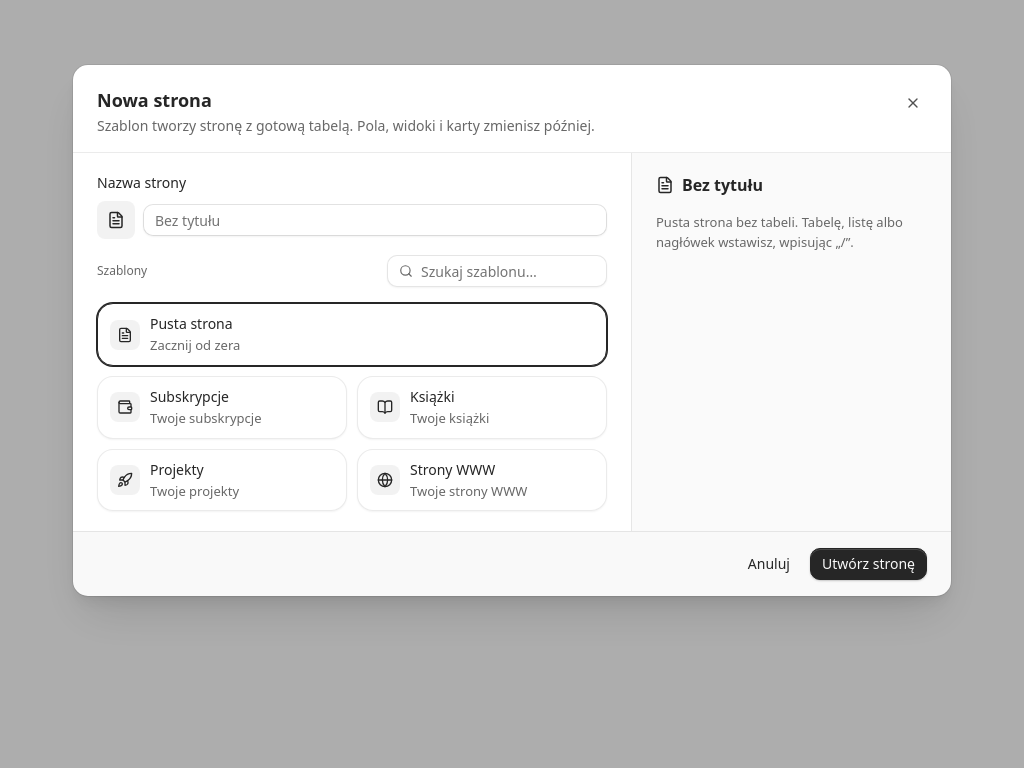
Test case: NewPageView › nazwa wpisana przez użytkownika trafia do nagłówka panelu; zmiana szablonu przywraca jego nazwę
Click the radio button labelled "Projekty Twoje projekty". click: (222,480)
box: [97, 448, 347, 511]
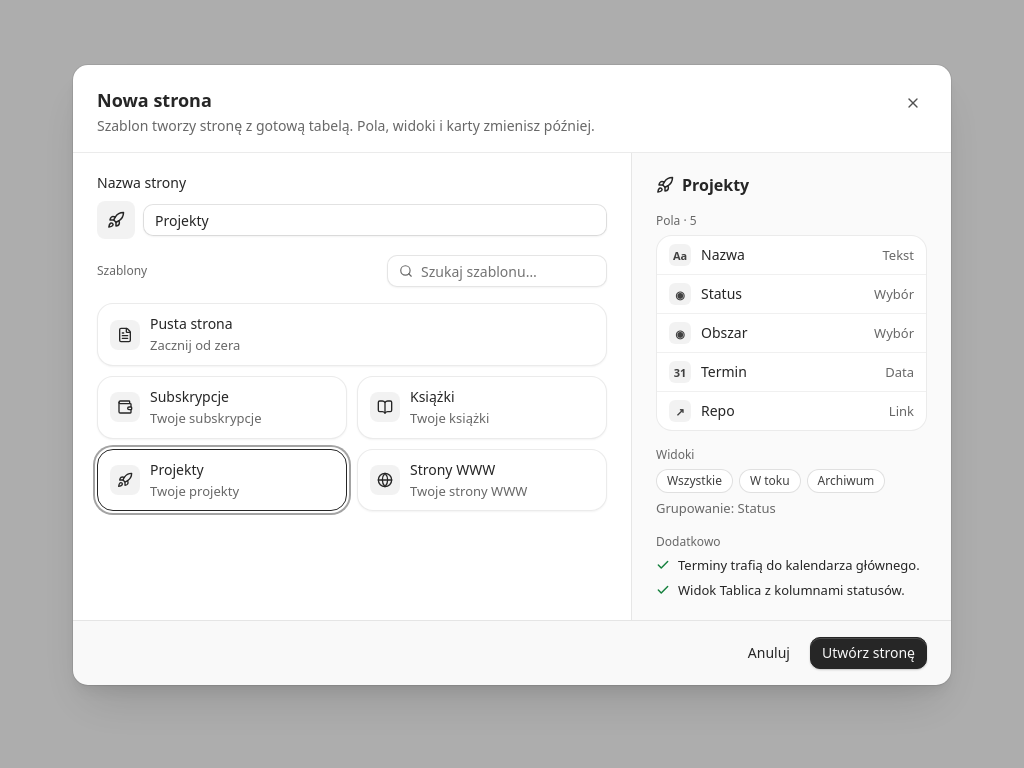
Replace the text in the field labelled "Nazwa strony" with "Studia". click: (375,220)
box: [143, 204, 607, 236]
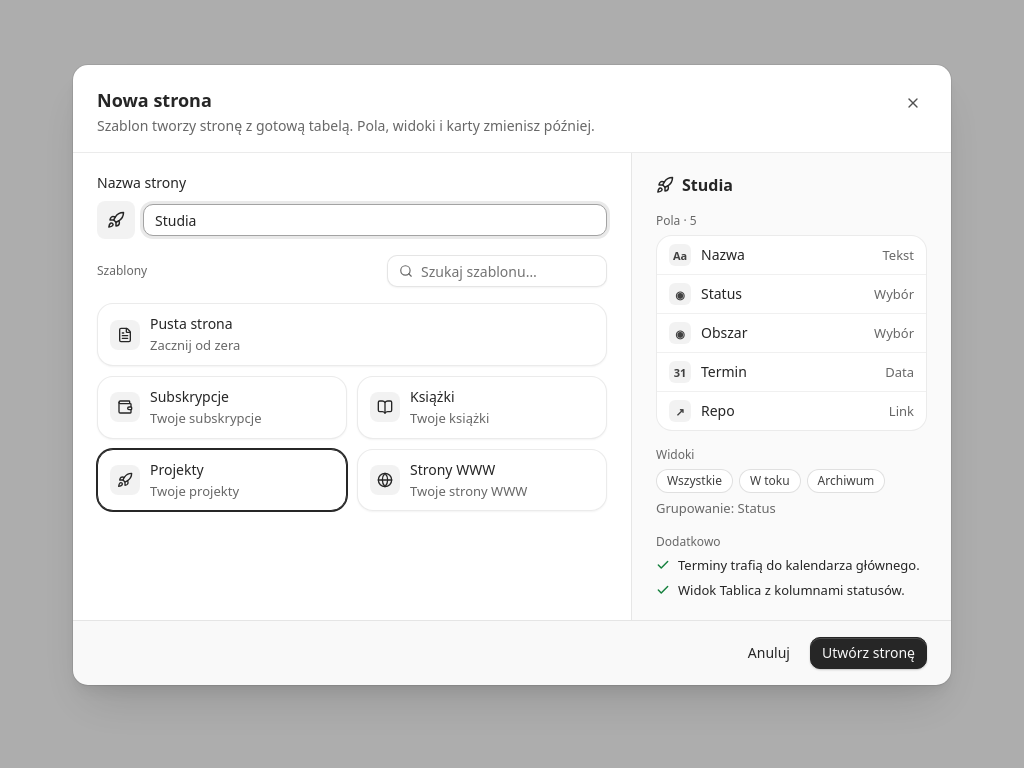
Result: the text "Studia" is shown at [682, 173, 733, 197]
Click the radio button labelled "Książki Twoje książki". click: (482,407)
box: [357, 376, 607, 439]
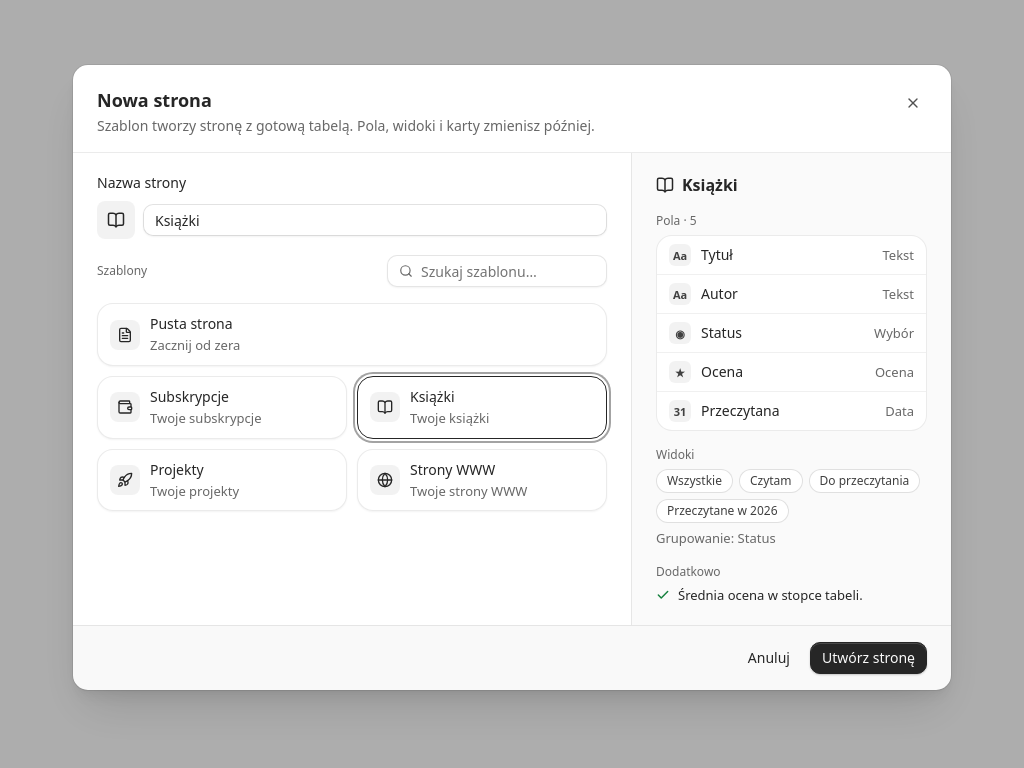
Result: the field labelled "Nazwa strony" holds "Książki" at [143, 204, 607, 236]
